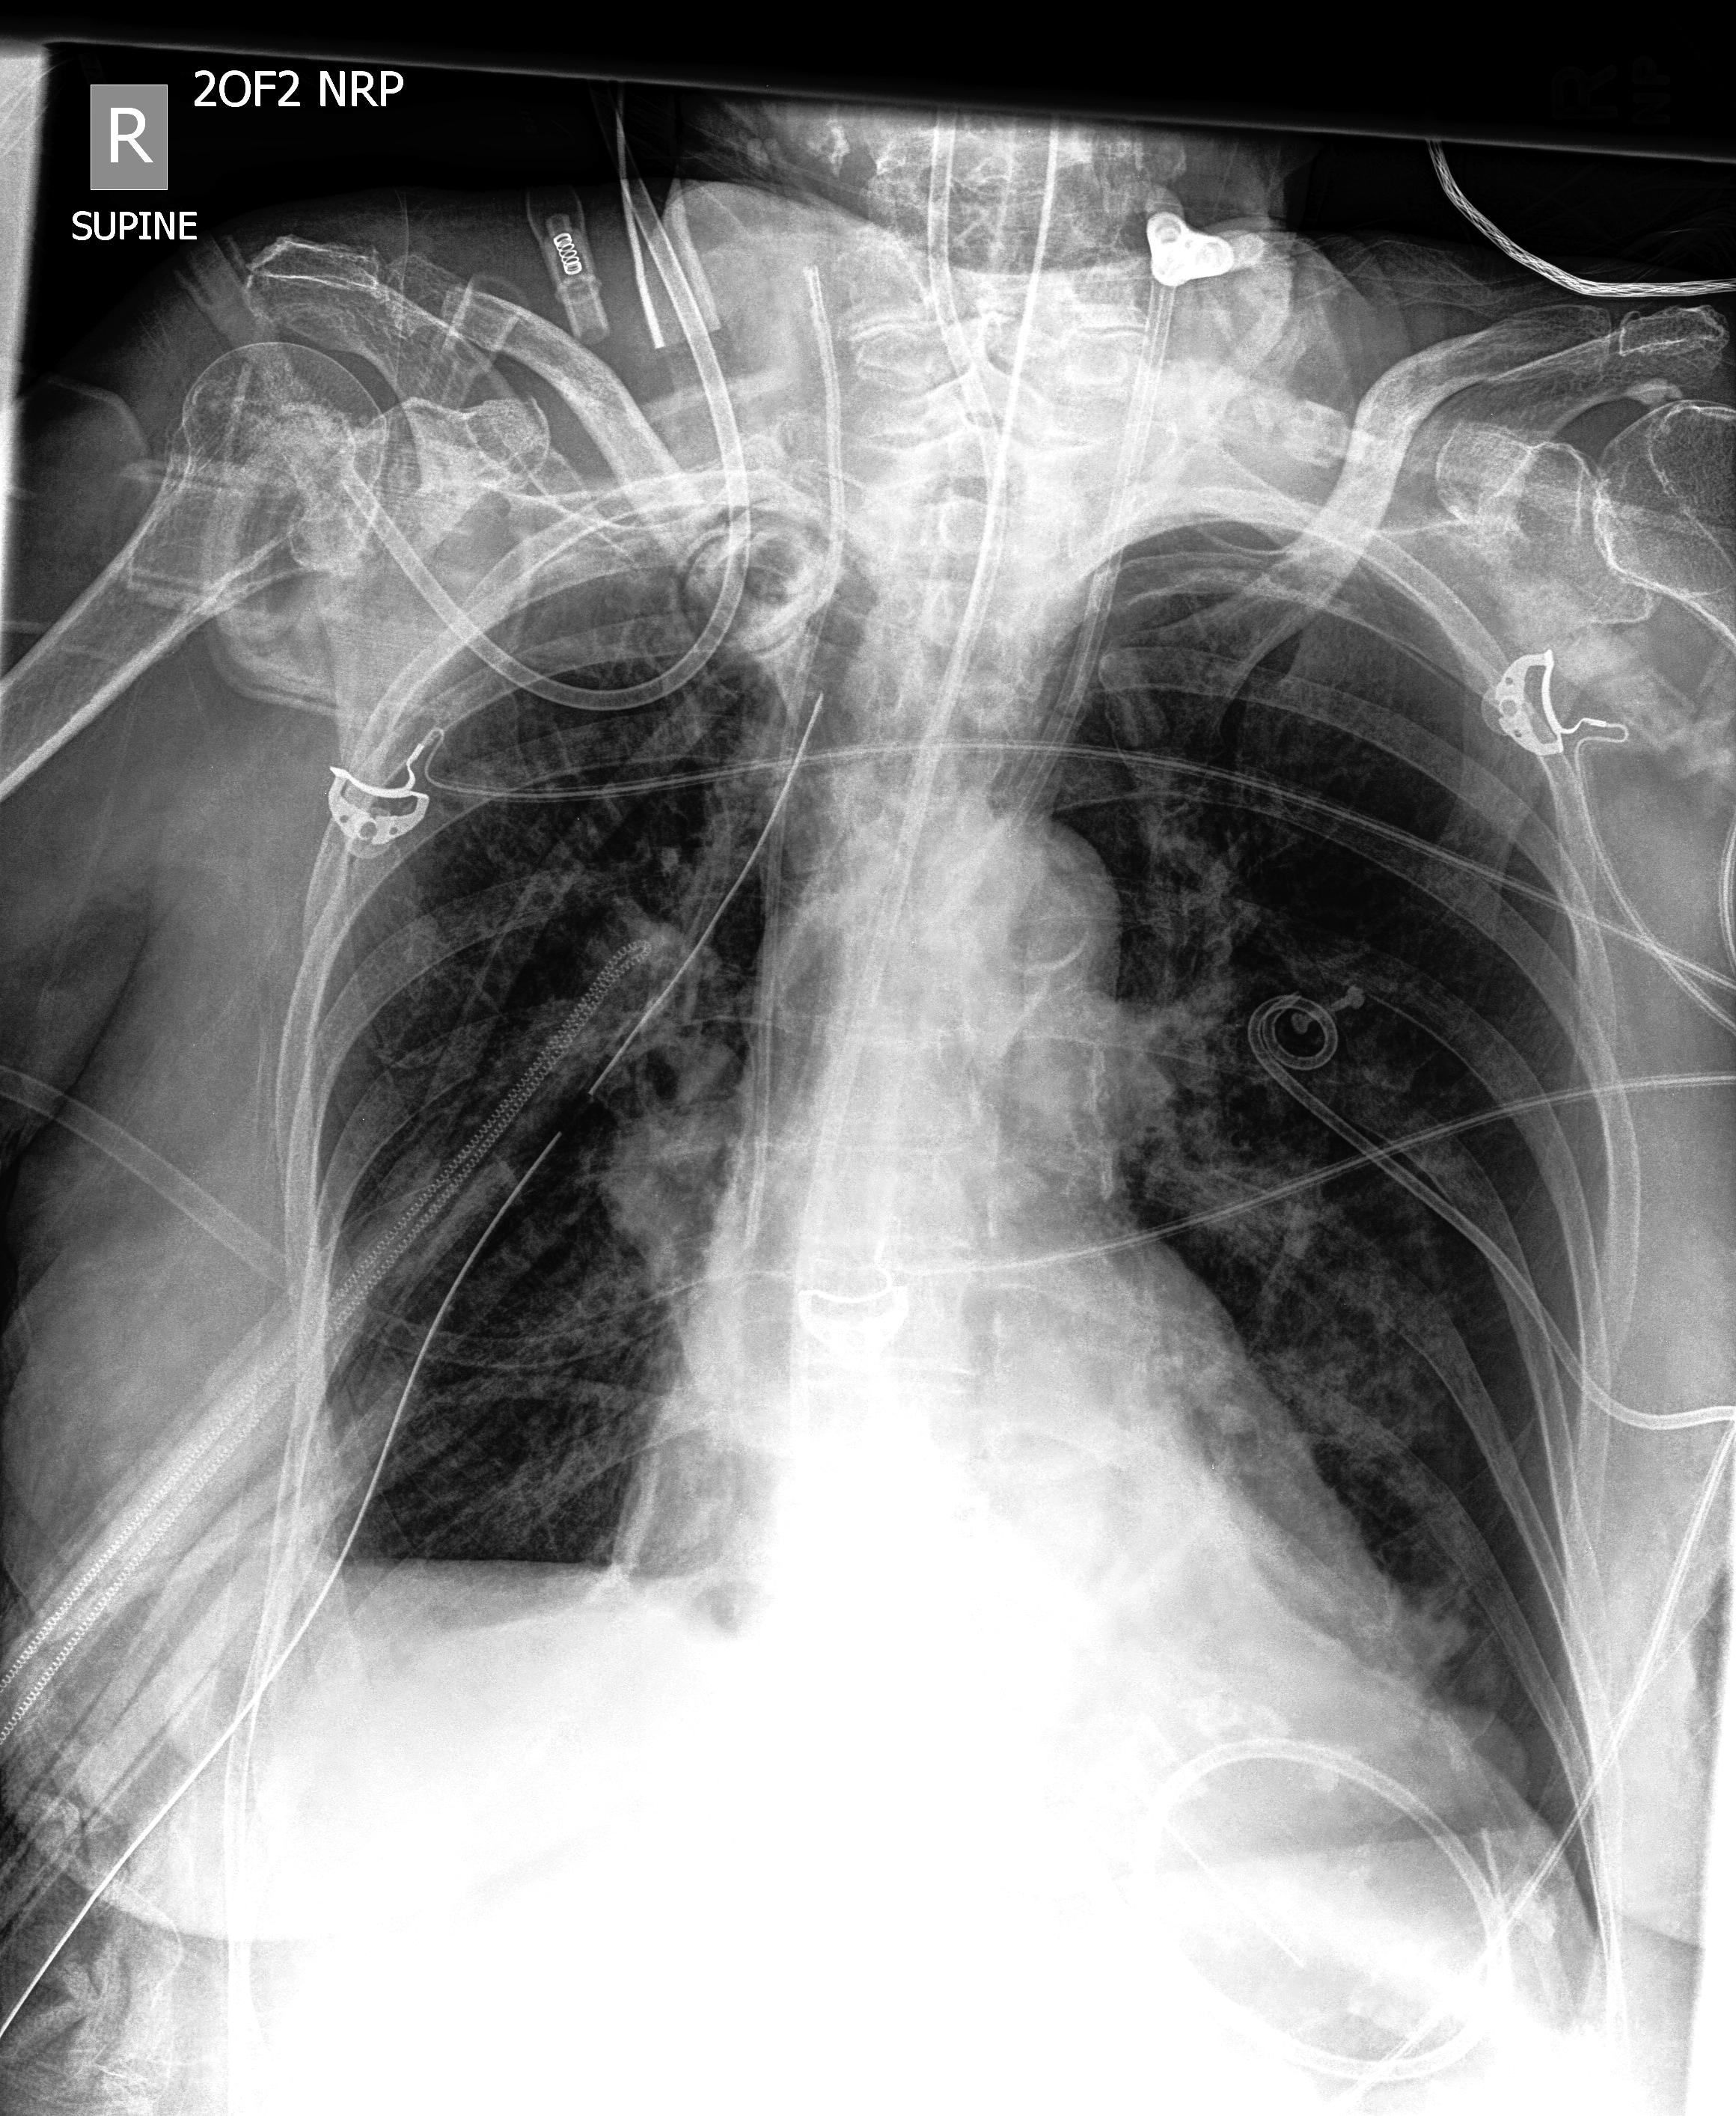Pleural Effusion: (216, 1524, 662, 1856)
